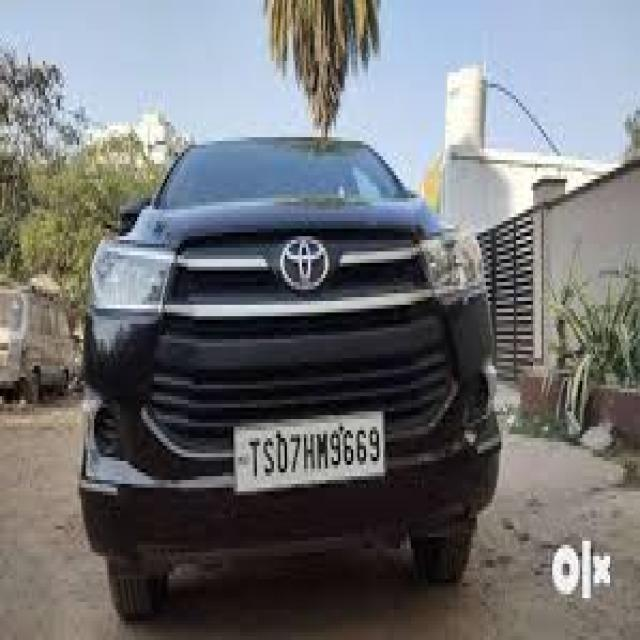light_vehicle: (79, 135, 502, 623)
